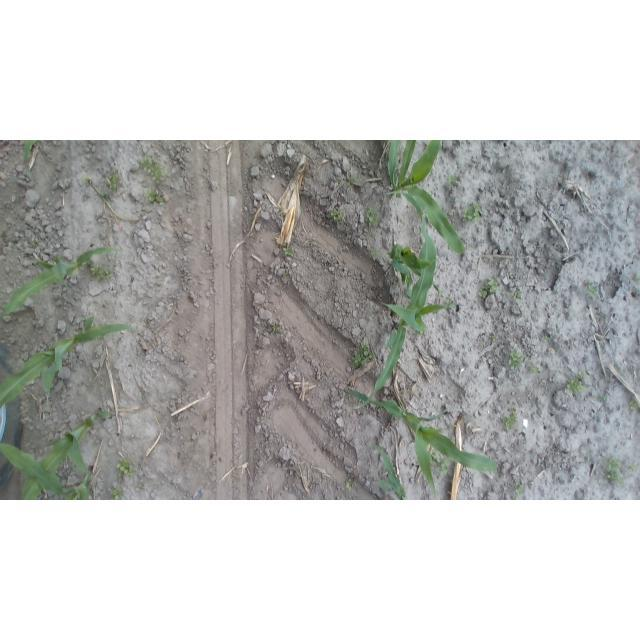Maize: (351, 216, 449, 411), (346, 391, 503, 498), (0, 315, 140, 413), (382, 141, 466, 262), (3, 409, 114, 500), (1, 244, 124, 322), (0, 445, 98, 500), (390, 241, 447, 299), (85, 178, 138, 236), (371, 444, 407, 499), (21, 140, 39, 185)
Weeds: (136, 154, 169, 184), (351, 341, 376, 371), (603, 455, 625, 485), (565, 370, 589, 395), (88, 265, 114, 284), (431, 451, 451, 475), (462, 201, 483, 223), (508, 348, 527, 372), (117, 458, 136, 479), (502, 409, 519, 432), (363, 208, 382, 227), (482, 278, 503, 295), (145, 188, 165, 205), (107, 174, 124, 193), (585, 281, 602, 300), (108, 487, 125, 499), (345, 173, 359, 187), (331, 207, 345, 221), (512, 482, 526, 495), (447, 173, 460, 187), (344, 475, 357, 489), (370, 249, 382, 264), (529, 363, 542, 375), (282, 246, 294, 259), (628, 399, 639, 413), (445, 298, 457, 310), (266, 324, 279, 335), (541, 334, 552, 347), (597, 394, 608, 405), (136, 480, 147, 490), (627, 461, 637, 472), (278, 270, 291, 278), (512, 289, 522, 299), (29, 239, 40, 248), (491, 333, 500, 343), (632, 272, 638, 284)
